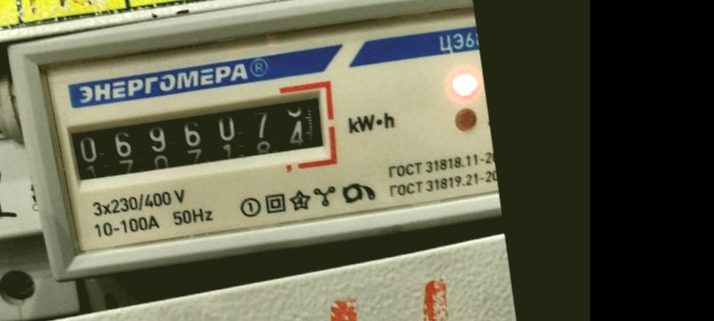0: (78, 132, 102, 164), (218, 110, 240, 142)
4: (286, 117, 309, 147)
6: (112, 126, 138, 159), (183, 117, 206, 147)
7: (252, 106, 273, 138)
9: (149, 122, 170, 154)
screen: (51, 72, 345, 200)
